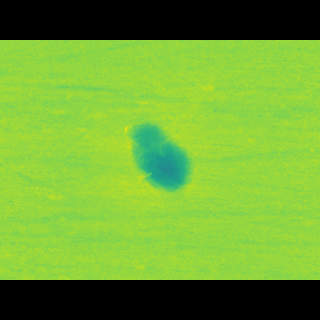Loch: (122, 128, 196, 185)
